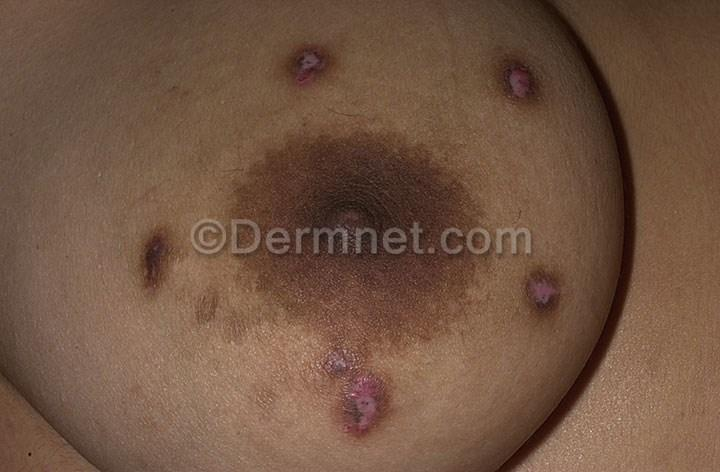Eczema: (318, 342, 416, 457), (269, 31, 369, 116), (476, 27, 557, 129), (120, 209, 196, 311), (187, 276, 250, 367), (526, 258, 581, 336)
